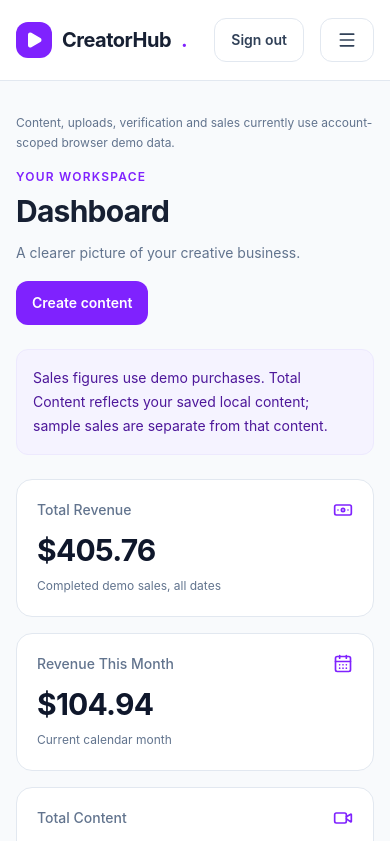
Test case: creator portal navigation › toggles the mobile navigation and closes it on navigation
Click the button named "Open navigation". click: click(347, 40)
box: [320,18,374,62]
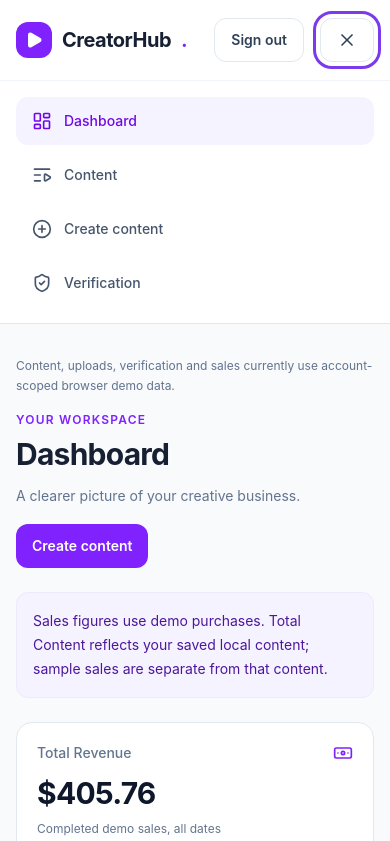
expect the button named "Close navigation" is expanded: met, box [320,18,374,62]
Click the link "Content". click: click(75, 175)
box: [32,165,117,185]
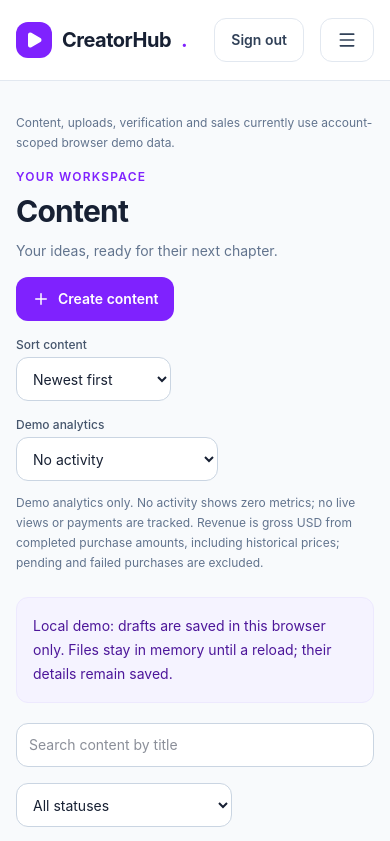
expect the heading "Content" is shown: met, box [16,193,128,229]
expect the button named "Open navigation" is collapsed: met, box [320,18,374,62]
